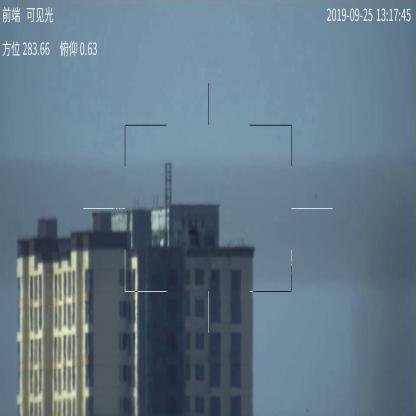uav: (180, 215, 208, 239)
